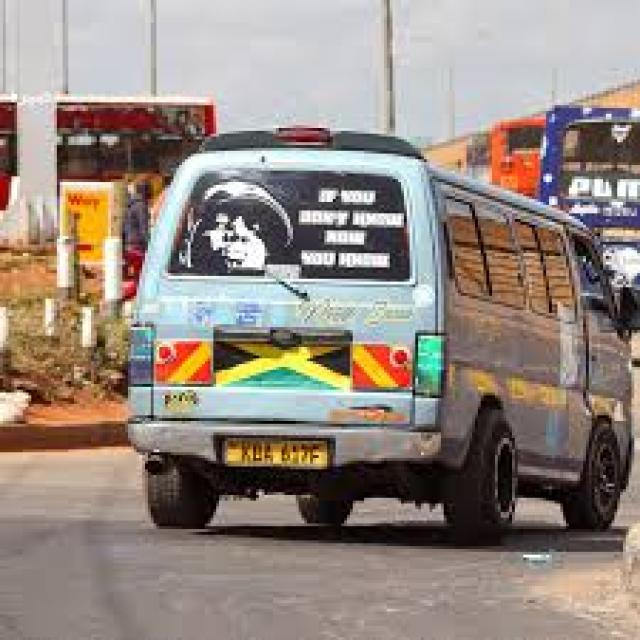matatu: (105, 104, 640, 557)
